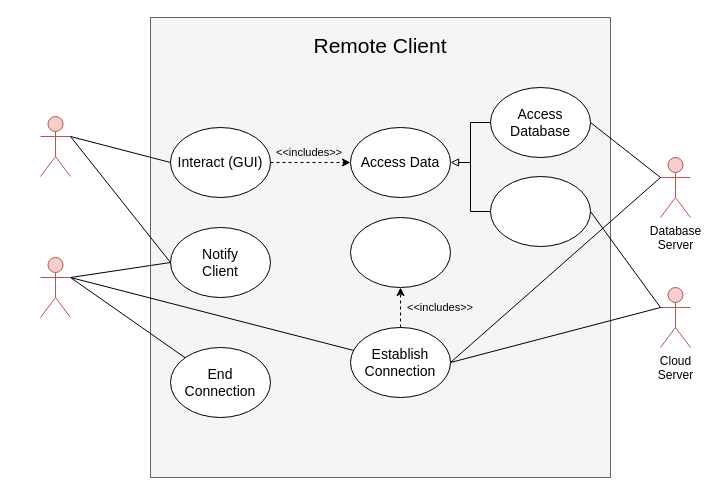
The diagram is 718 pixels wide and 495 high, and some of its shapes have lost their labels. Each missing label, with the centre of its shape:
Access Cloud: the point at 540,211
Computational Unit: the point at 55,287
Request Connection: the point at 400,252
User: the point at 55,146
